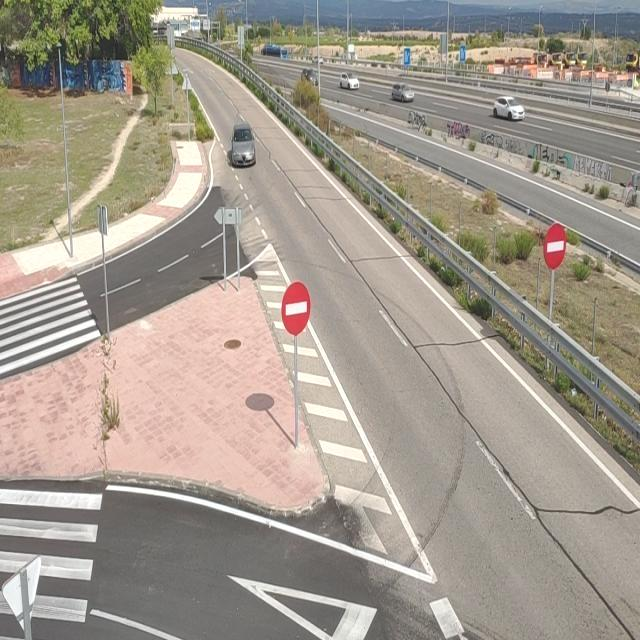Car: (230, 123, 257, 167), (494, 96, 526, 122), (391, 83, 414, 103), (340, 70, 360, 90), (301, 69, 319, 86), (312, 54, 324, 66)
